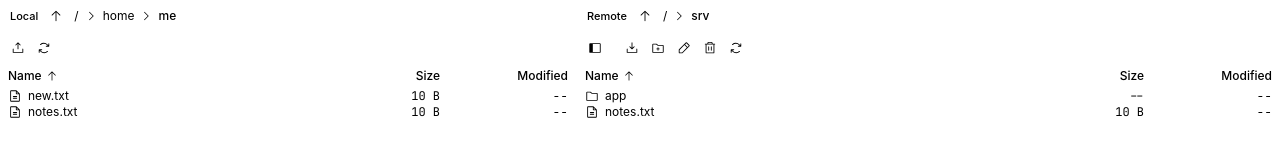
Test case: SftpPane › hides and shows the local side
Click the button named "Hide local files". click: x=595, y=48
box: [583,36,607,60]
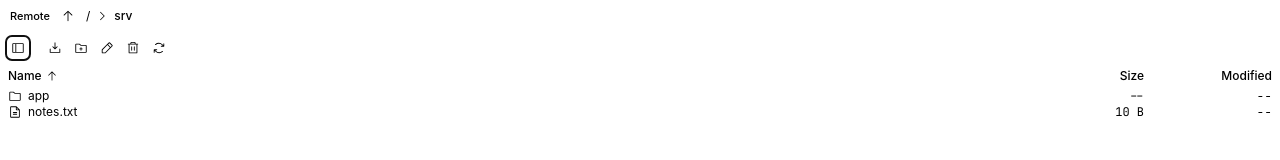
Click the button named "Show local files". click: x=18, y=48
box: [6,36,30,60]
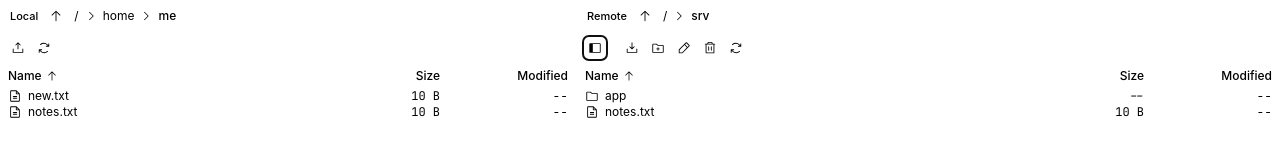
Now the element named "Local files" is shown, box [0,0,576,120]
